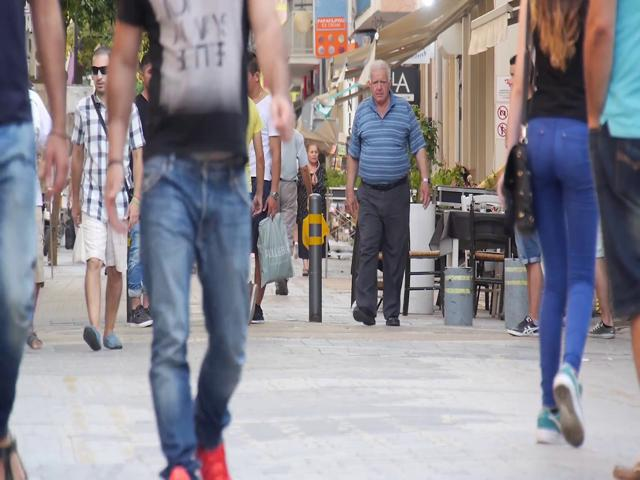shoe: (552, 363, 585, 447), (536, 408, 564, 445), (507, 317, 541, 336), (127, 307, 154, 327), (352, 305, 376, 326), (82, 326, 102, 351), (590, 321, 615, 338), (104, 333, 122, 349), (385, 316, 399, 326)
